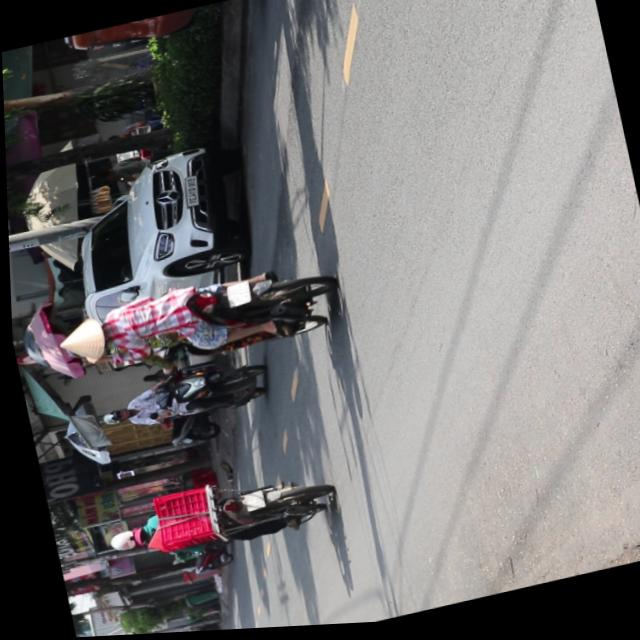helmet: (100, 525, 143, 555), (94, 406, 127, 427)
licenseplate: (25, 254, 341, 397), (93, 460, 334, 575), (89, 358, 269, 441)
motorcyclist: (45, 312, 115, 379)
nohelmet: (220, 282, 248, 310), (236, 493, 260, 514)
